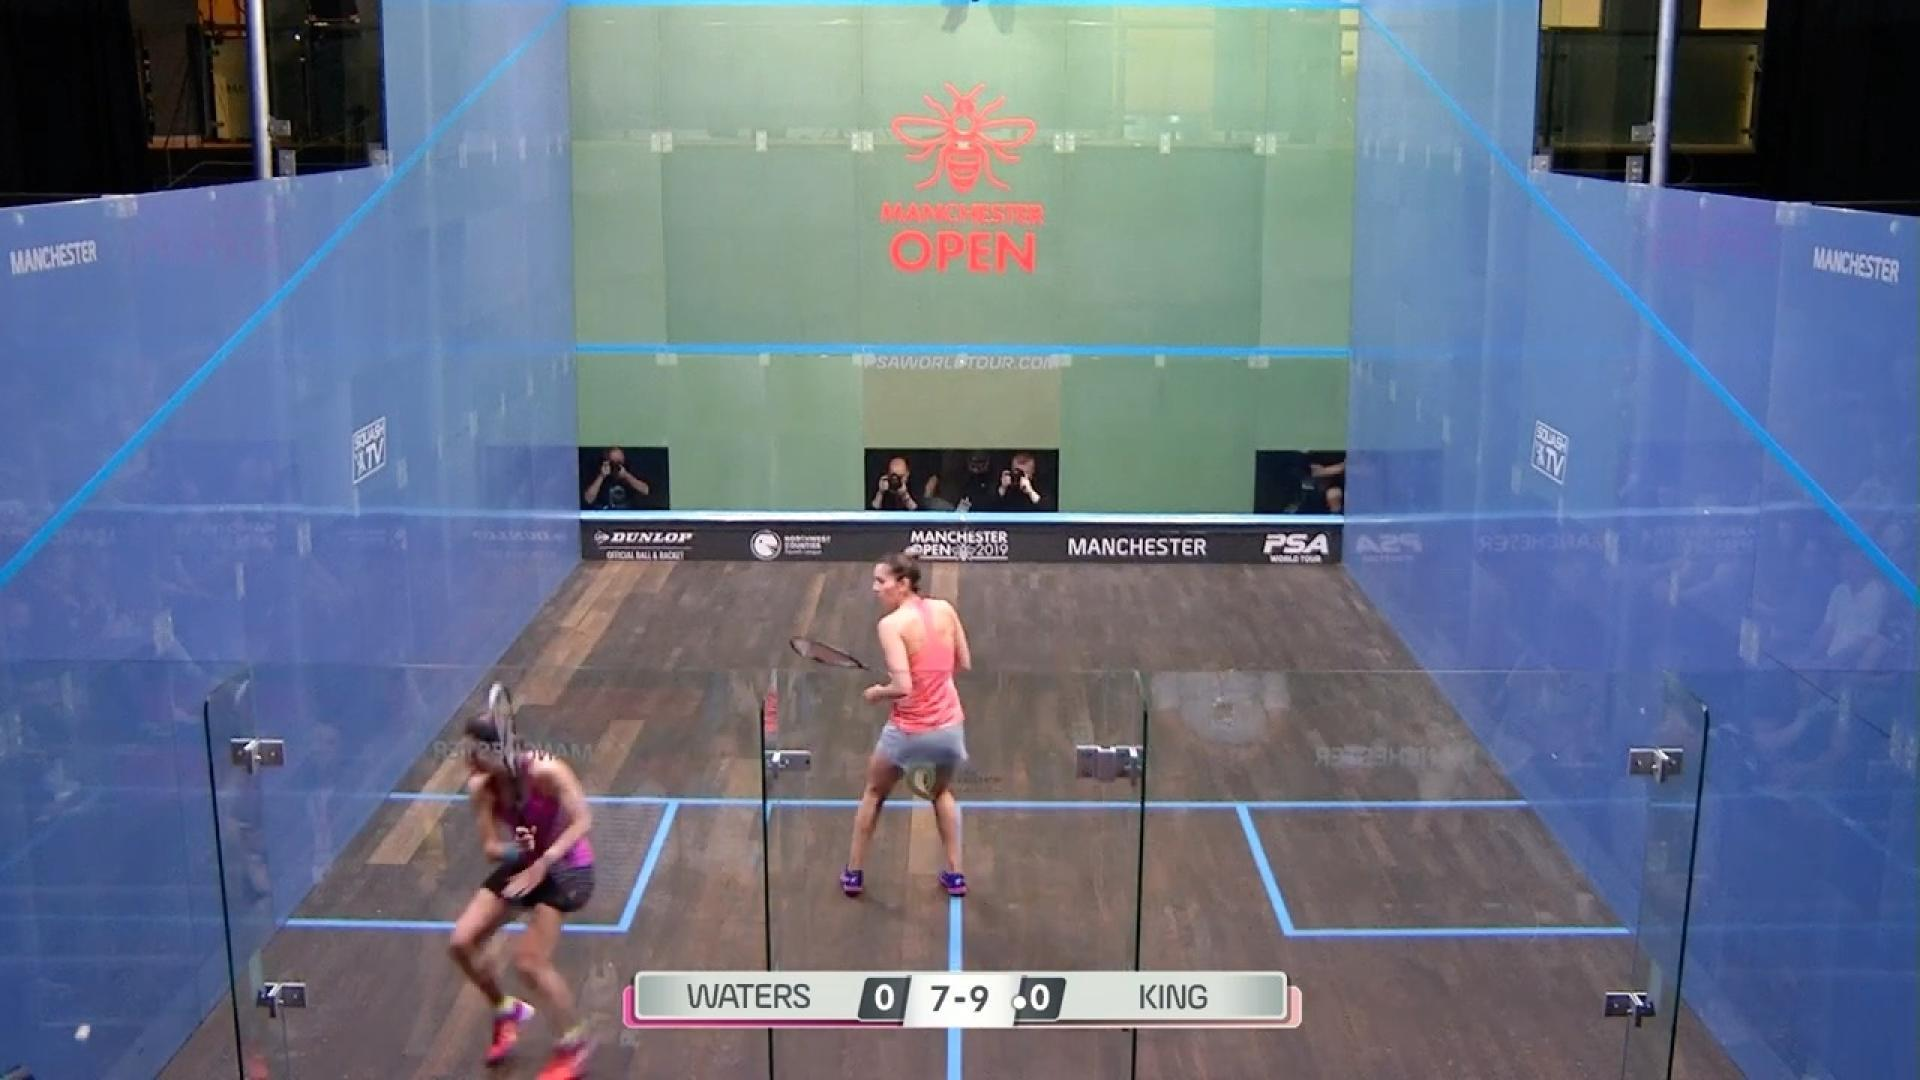Squash-Ball: (51, 997, 115, 1058)
